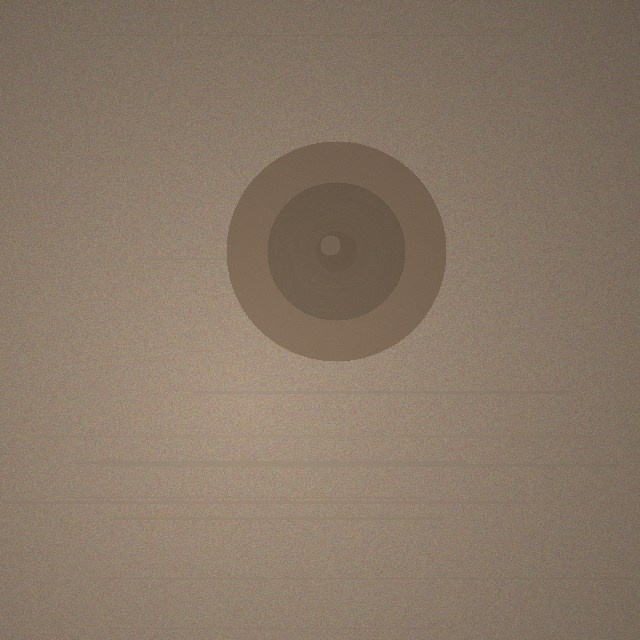good: (226, 141, 446, 361)
